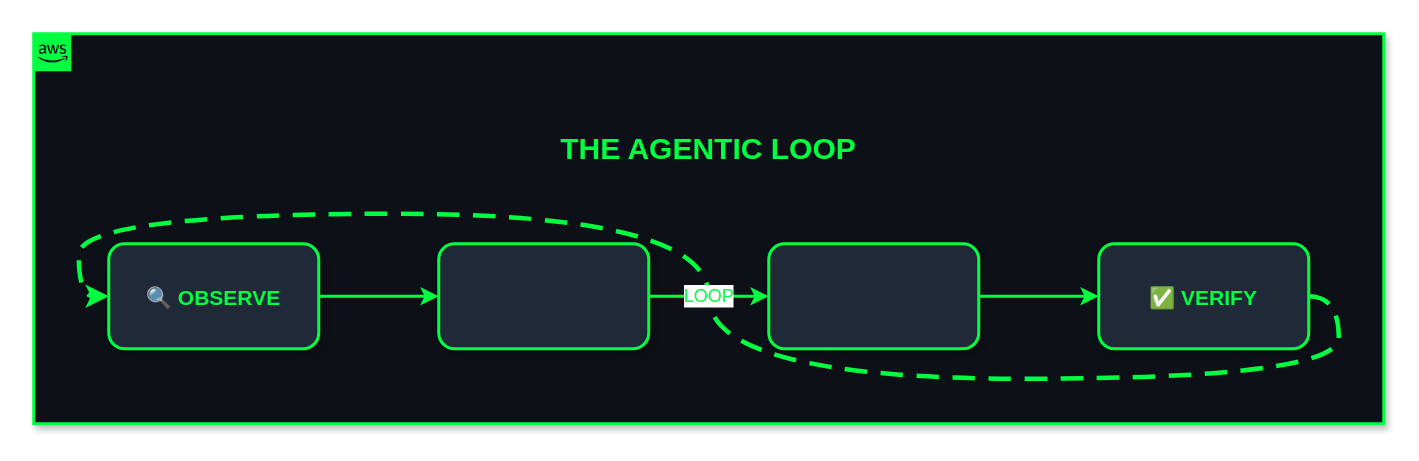
The diagram is 1419 pixels wide and 461 high, and some of its shapes have lost their labels. The centre of each missing label's shape, as x and y in pixels:
"⚡ ACT" belongs at pixel 874 298.
"🧠 REASON" belongs at pixel 544 298.
